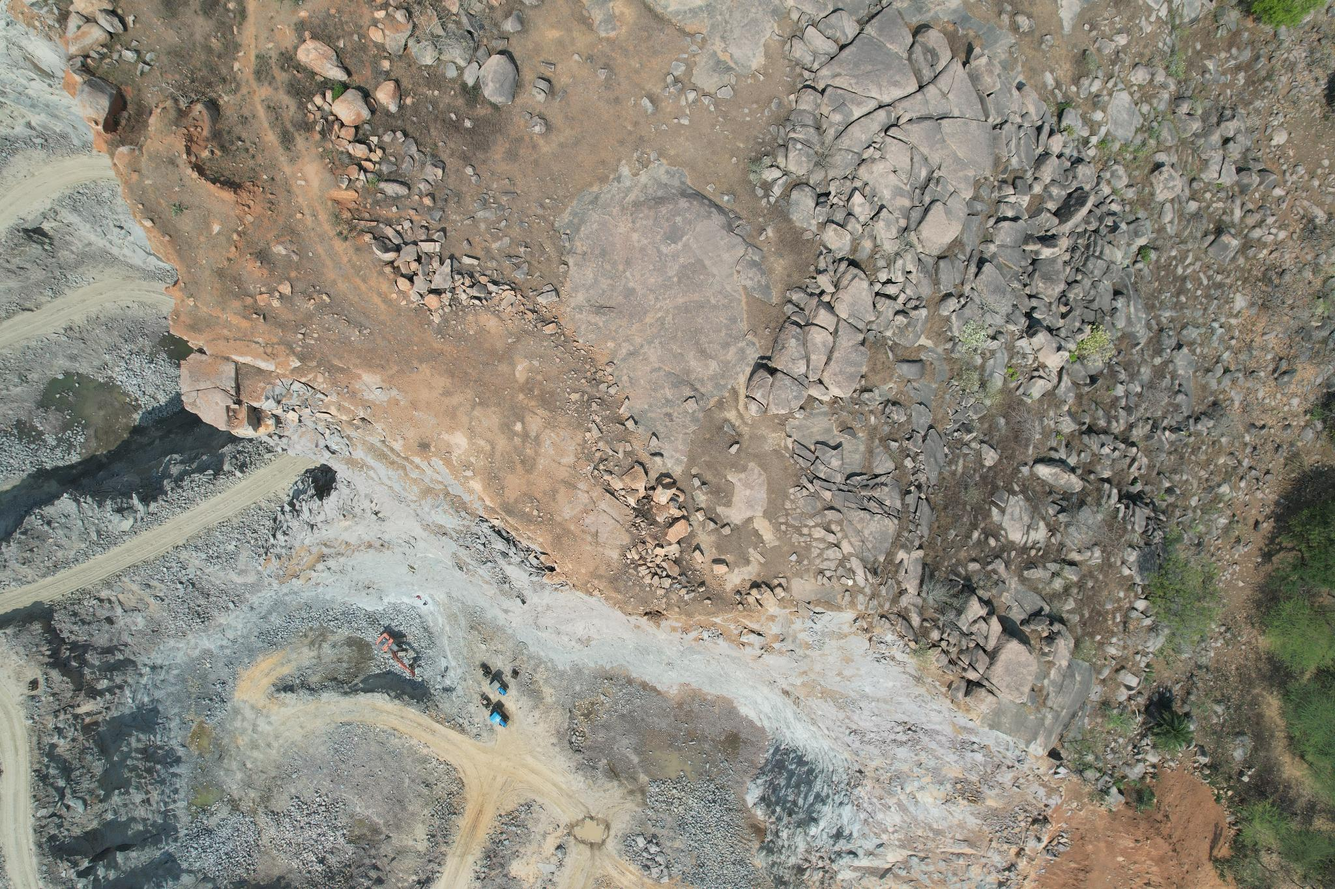benches: (235, 646, 648, 889), (0, 455, 322, 613), (0, 671, 40, 889)
excavator: (375, 634, 417, 681)
